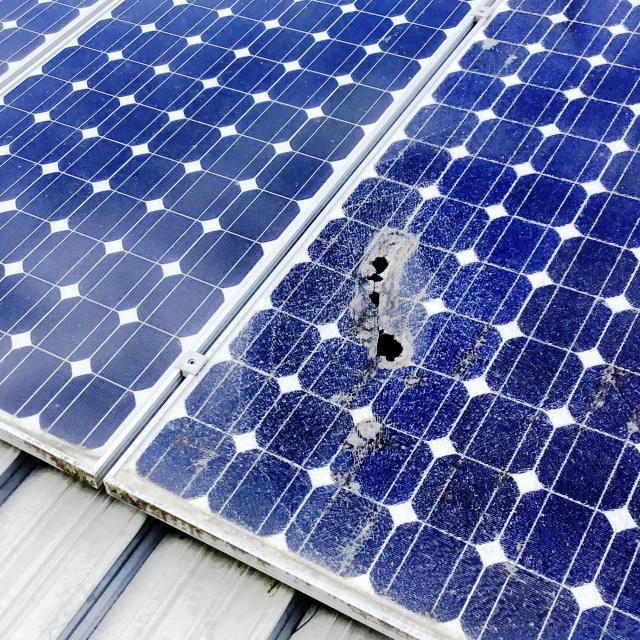faulty: (102, 0, 640, 634)
no faulty: (4, 0, 478, 483)
